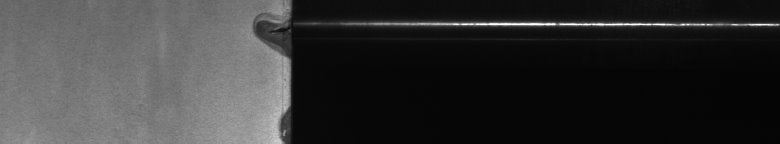hb: (246, 6, 280, 136)
